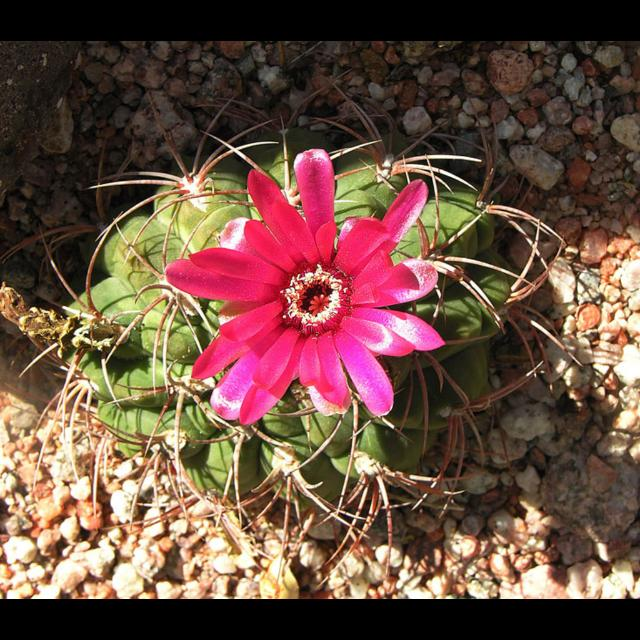Flower: (162, 165, 444, 422)
